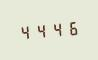four: (18, 22, 32, 41), (33, 21, 47, 40), (48, 20, 62, 38)
six: (63, 18, 77, 37)
